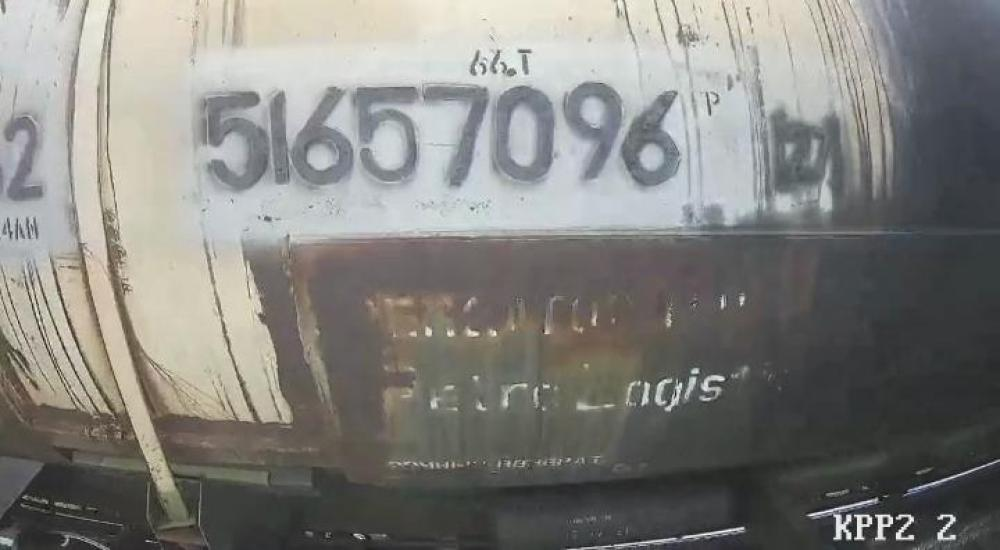Wagon-number: (191, 76, 691, 202)
